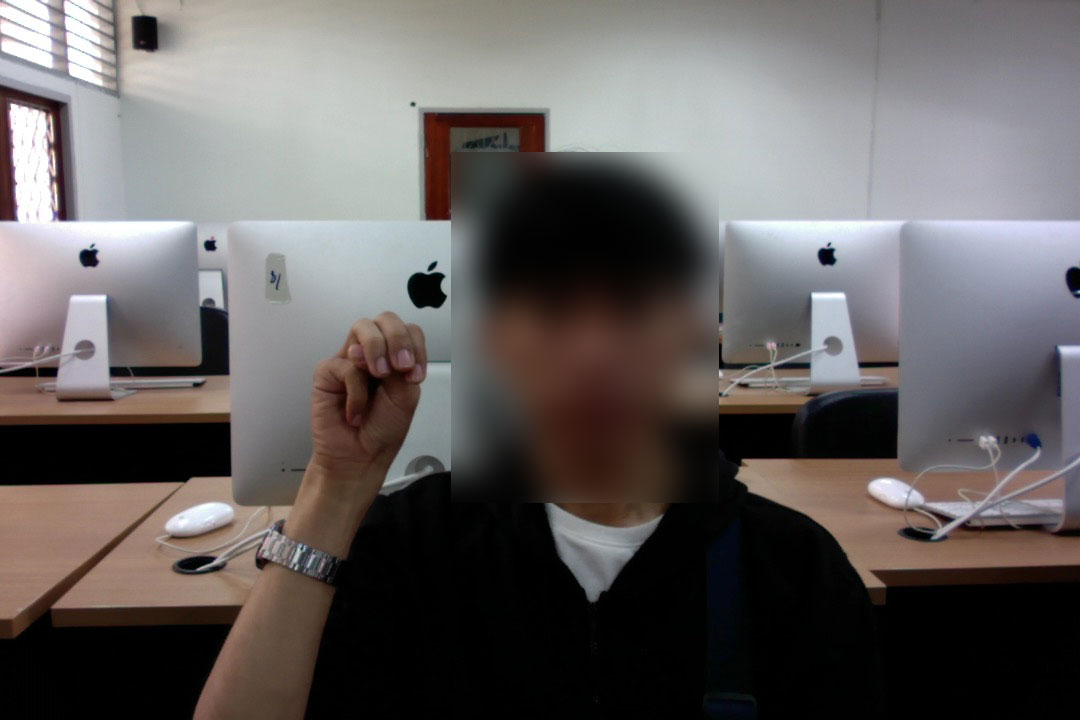mor: (300, 299, 433, 496)
